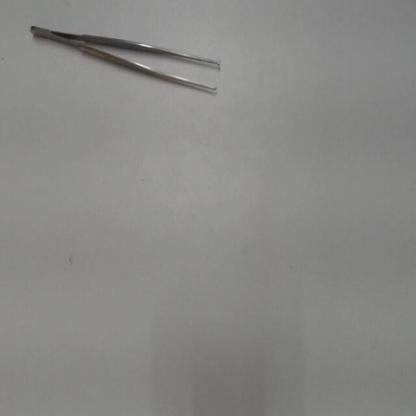Gillies Toothed Dissector: (30, 21, 230, 104)
